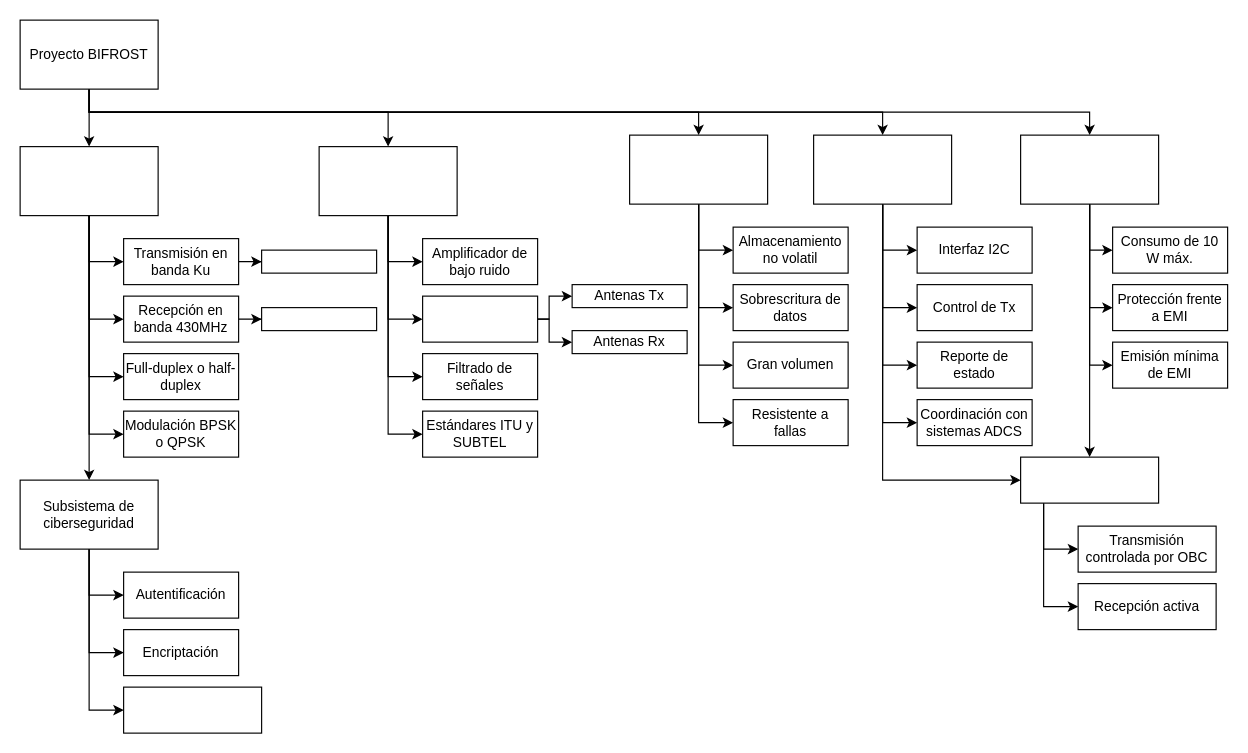
The diagram is 1248 pixels wide and 753 high, and some of its shapes have lost their labels. The centre of each missing label's shape, as x and y in pixels:
"Actualizaciones de firmware remotas" belongs at point (192, 709).
"Almacenamiento de datos" belongs at point (698, 169).
"Array de antenas direccionable" belongs at point (479, 318).
"Est. remotas" belongs at point (318, 318).
"Est. terrenas" belongs at point (318, 261).
"Operación continua o semi continua" belongs at point (1089, 479).
"Sistema de alimentación" belongs at point (1089, 169).
"Sistema de comunicaciones" belongs at point (88, 180).
"Sistema de control" belongs at point (882, 169).
"Sistema RF" belongs at point (387, 180).
